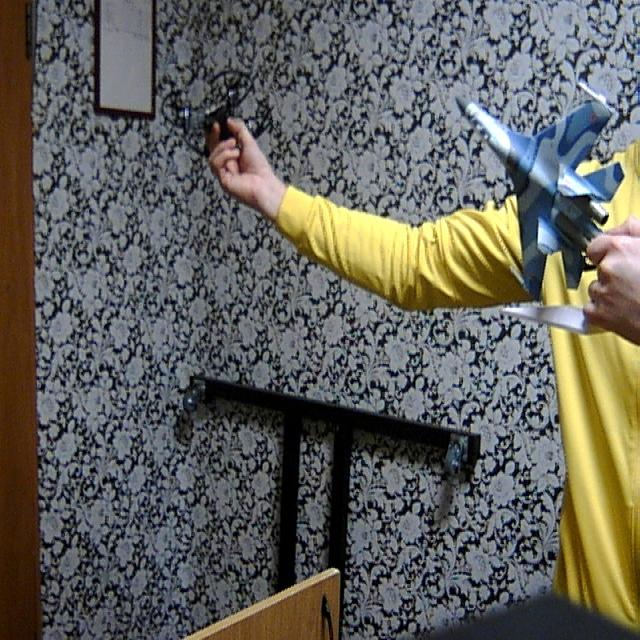drone: (160, 59, 282, 168)
